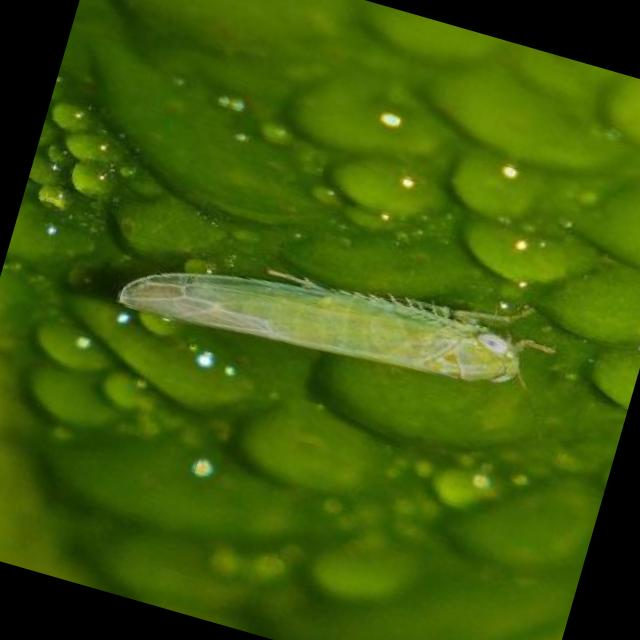green-leafhopper: (116, 216, 544, 421)
